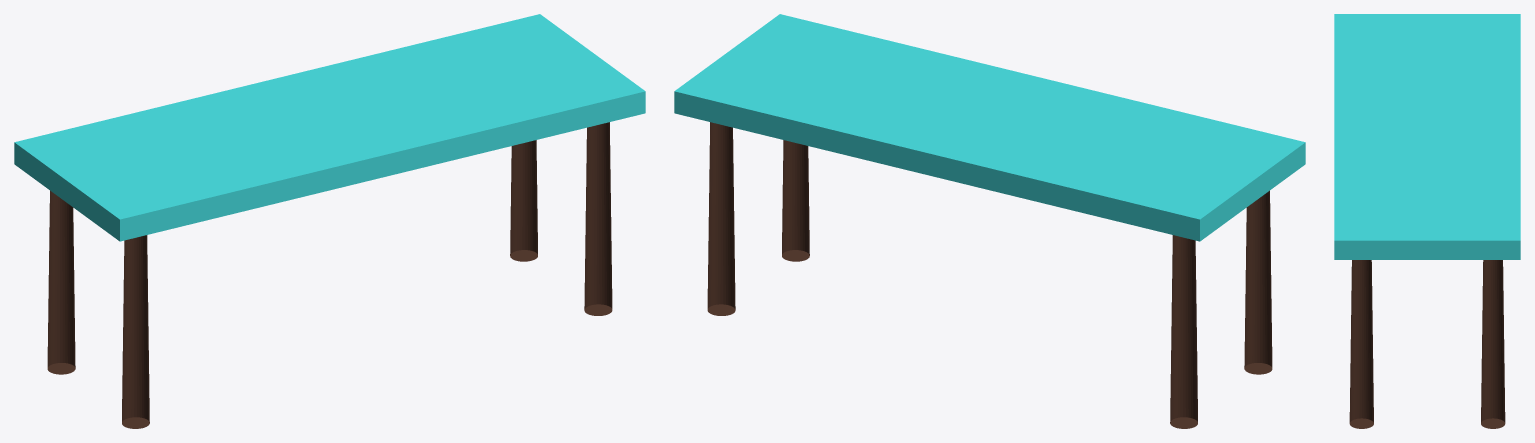
The model's file is mesa.fbx.
The picture shows the model from 3 angles, left to right: view 1: azimuth 30°, elevation 25°; view 2: azimuth 150°, elevation 25°; view 3: azimuth 270°, elevation 25°; orthographic projection. The views are drawn at different scales.
Parts seen in each view (by area): view 1: mesa; view 2: mesa; view 3: mesa.
Boxes of the visible parts, x1,y1,x2,y2 form: mesa: (14, 14, 645, 428); mesa: (674, 14, 1305, 428); mesa: (1334, 14, 1520, 428).
Size of the model in its own units: 371 by 150 by 129.
